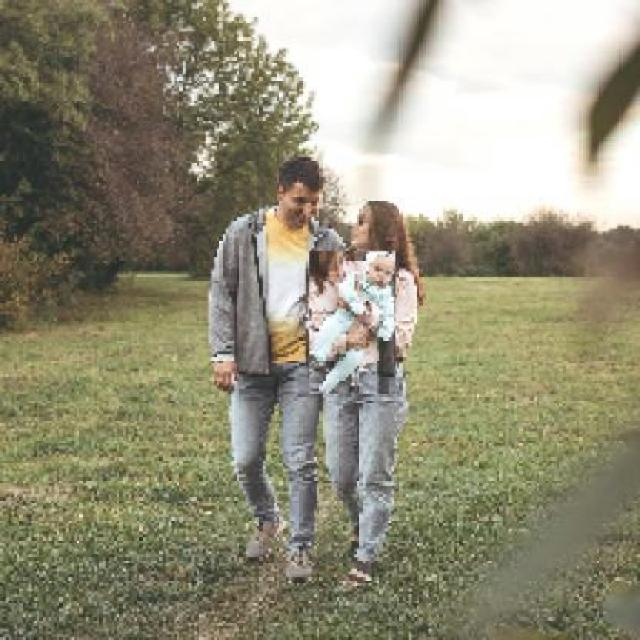child: (308, 251, 395, 395)
